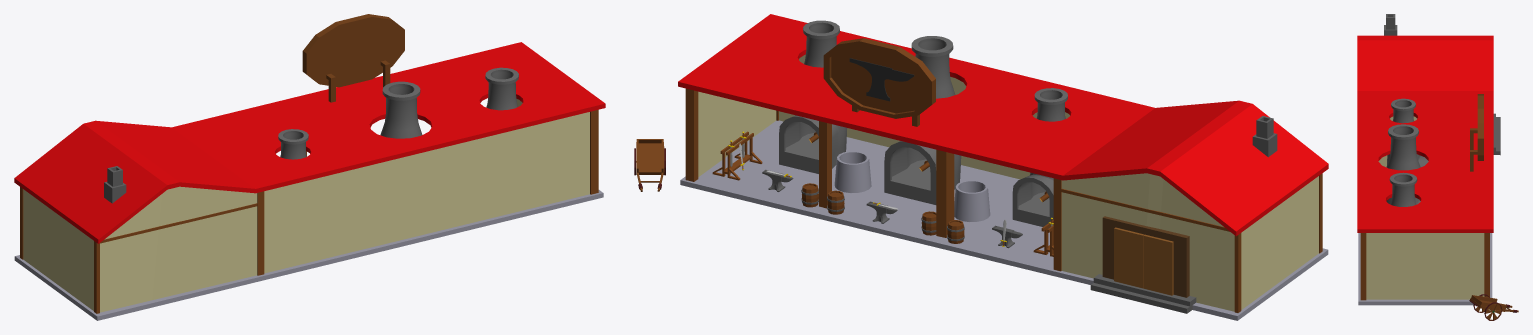
File: forge.fbx
3 views of the same model, side by side, from view 1: azimuth 30°, elevation 25°; view 2: azimuth 150°, elevation 25°; view 3: azimuth 270°, elevation 25° (orthographic). The views are drawn at different scales.
Parts seen in each view (by area): view 1: walls, roof + mid pillars, sign, ground, forge.001, forge, forge.002, schoorsteen; view 2: roof + mid pillars, walls, ground, door, sign, forge.001, forge, forge.002, lava barrel, lava barrel.001, wagon.001, weapon stand (+1 smaller); view 3: roof + mid pillars, walls, forge.001, ground, forge, sign, wagon.001, forge.002, door, schoorsteen.
Boxes of the visible parts, x1=… form: walls: x1=20, y1=99, x2=598, y2=313; roof + mid pillars: x1=14, y1=42, x2=605, y2=243; sign: x1=302, y1=14, x2=404, y2=102; ground: x1=14, y1=190, x2=603, y2=320; forge.001: x1=380, y1=81, x2=422, y2=138; forge: x1=485, y1=67, x2=518, y2=110; forge.002: x1=278, y1=129, x2=308, y2=159; schoorsteen: x1=104, y1=166, x2=126, y2=203; roof + mid pillars: x1=678, y1=14, x2=1328, y2=237; walls: x1=685, y1=54, x2=1322, y2=312; ground: x1=680, y1=120, x2=1328, y2=320; door: x1=1090, y1=216, x2=1196, y2=313; sign: x1=823, y1=38, x2=935, y2=126; forge.001: x1=884, y1=36, x2=961, y2=204; forge: x1=779, y1=20, x2=847, y2=173; forge.002: x1=1012, y1=88, x2=1067, y2=228; lava barrel: x1=834, y1=151, x2=871, y2=192; lava barrel.001: x1=954, y1=180, x2=990, y2=221; wagon.001: x1=634, y1=139, x2=665, y2=191; weapon stand: x1=712, y1=131, x2=762, y2=180; roof + mid pillars: x1=1357, y1=35, x2=1493, y2=232; walls: x1=1360, y1=116, x2=1489, y2=300; forge.001: x1=1386, y1=124, x2=1420, y2=204; ground: x1=1358, y1=233, x2=1492, y2=305; forge: x1=1389, y1=172, x2=1417, y2=206; sign: x1=1470, y1=94, x2=1483, y2=171; wagon.001: x1=1469, y1=294, x2=1518, y2=320; forge.002: x1=1386, y1=98, x2=1428, y2=166; door: x1=1493, y1=113, x2=1500, y2=155; schoorsteen: x1=1384, y1=14, x2=1397, y2=35.
Size of the model in its own units: 28.87 by 8.23 by 8.99.
